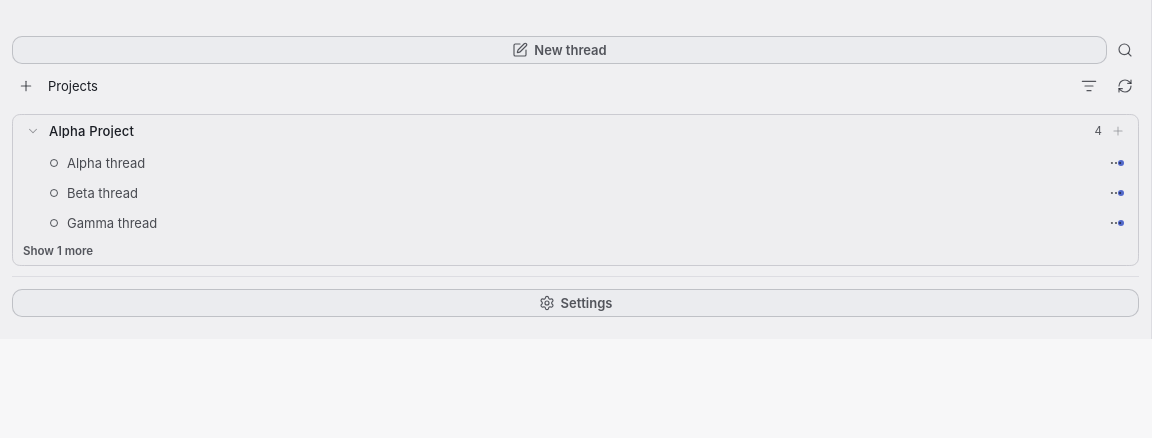
Test case: Sidebar › searches across loaded root threads before collapsed truncation
The width and height of the screenshot is (1152, 438).
Click the button named "Toggle search" at (1125, 50), box x1=1111 y1=36 x2=1139 y2=64
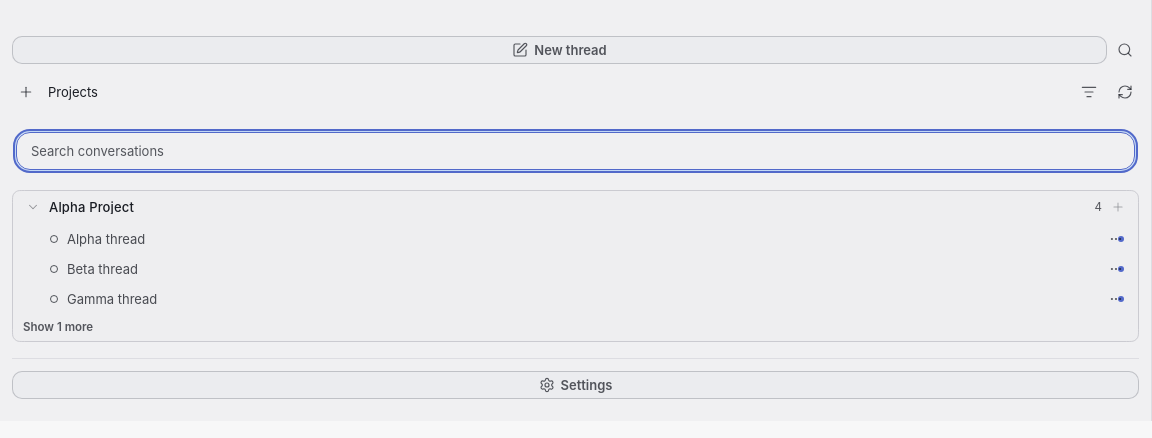
Type "delta" into the field labelled "Search conversations" at (576, 151), box x1=16 y1=132 x2=1135 y2=170
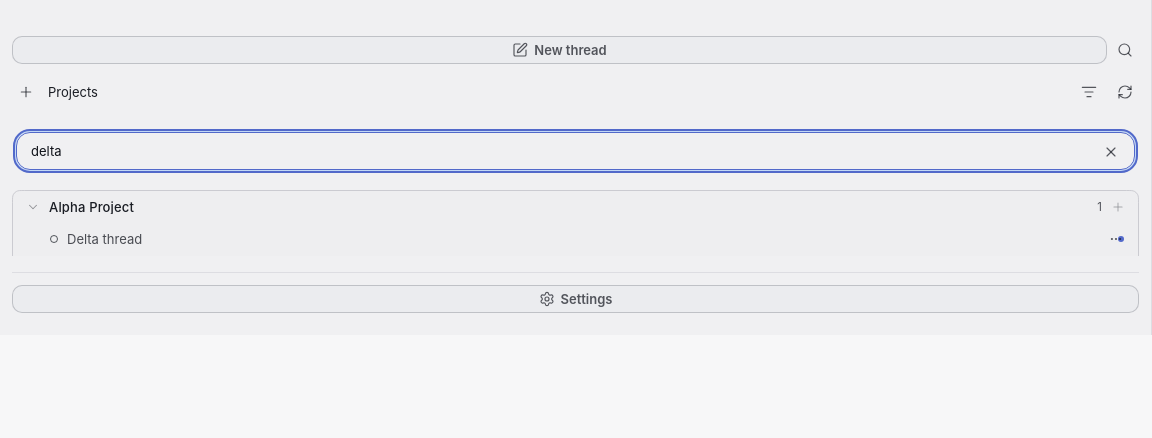
expect the text "Delta thread" is shown: met, box x1=67 y1=231 x2=142 y2=247
expect the button "Alpha thread" is gone: met
expect the text "More..." is gone: met
